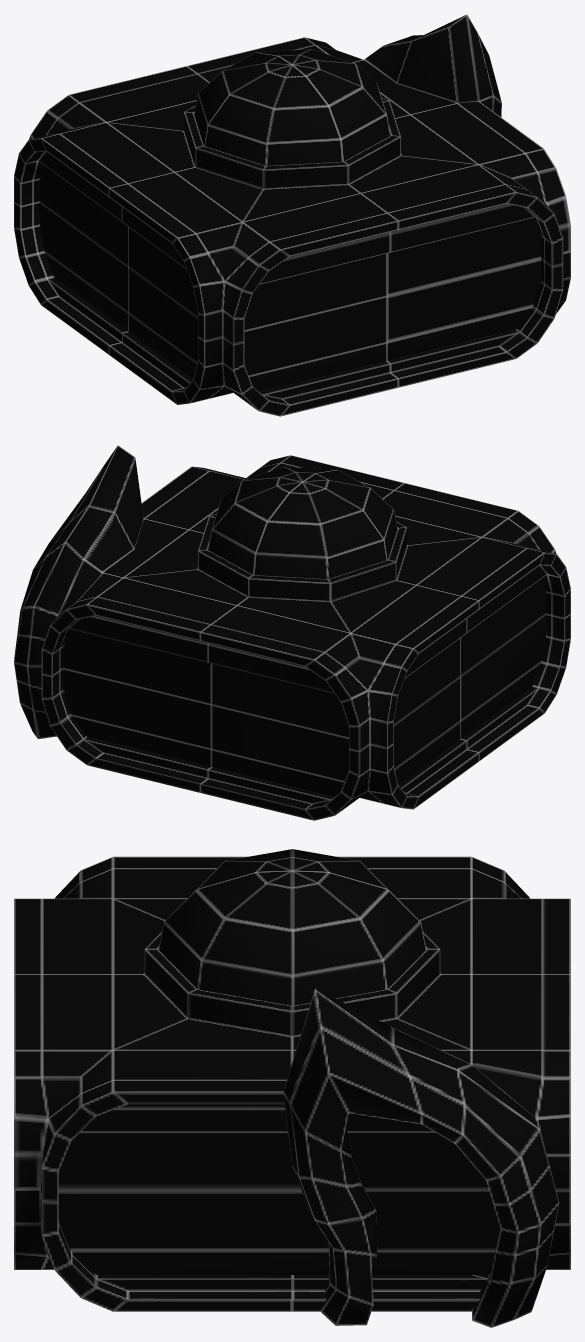
File: houseyhouse_mesh.fbx
3 renders of one model, top to bottom at view 1: azimuth 30°, elevation 25°; view 2: azimuth 150°, elevation 25°; view 3: azimuth 270°, elevation 25°, orthographic. The views are drawn at different scales.
Visible parts, largest first — view 1: Hosey_mesh; view 2: Hosey_mesh; view 3: Hosey_mesh.
Part boxes in pixels (<box>): Hosey_mesh: <box>14,14,570,416</box>; Hosey_mesh: <box>14,445,570,820</box>; Hosey_mesh: <box>14,849,570,1327</box>.
Bounding box in the file's own units: 997 × 587 × 916.
2 materials, 2 textured.
